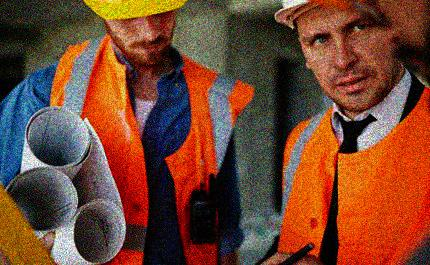helmet: (274, 1, 399, 107), (81, 1, 188, 62)
